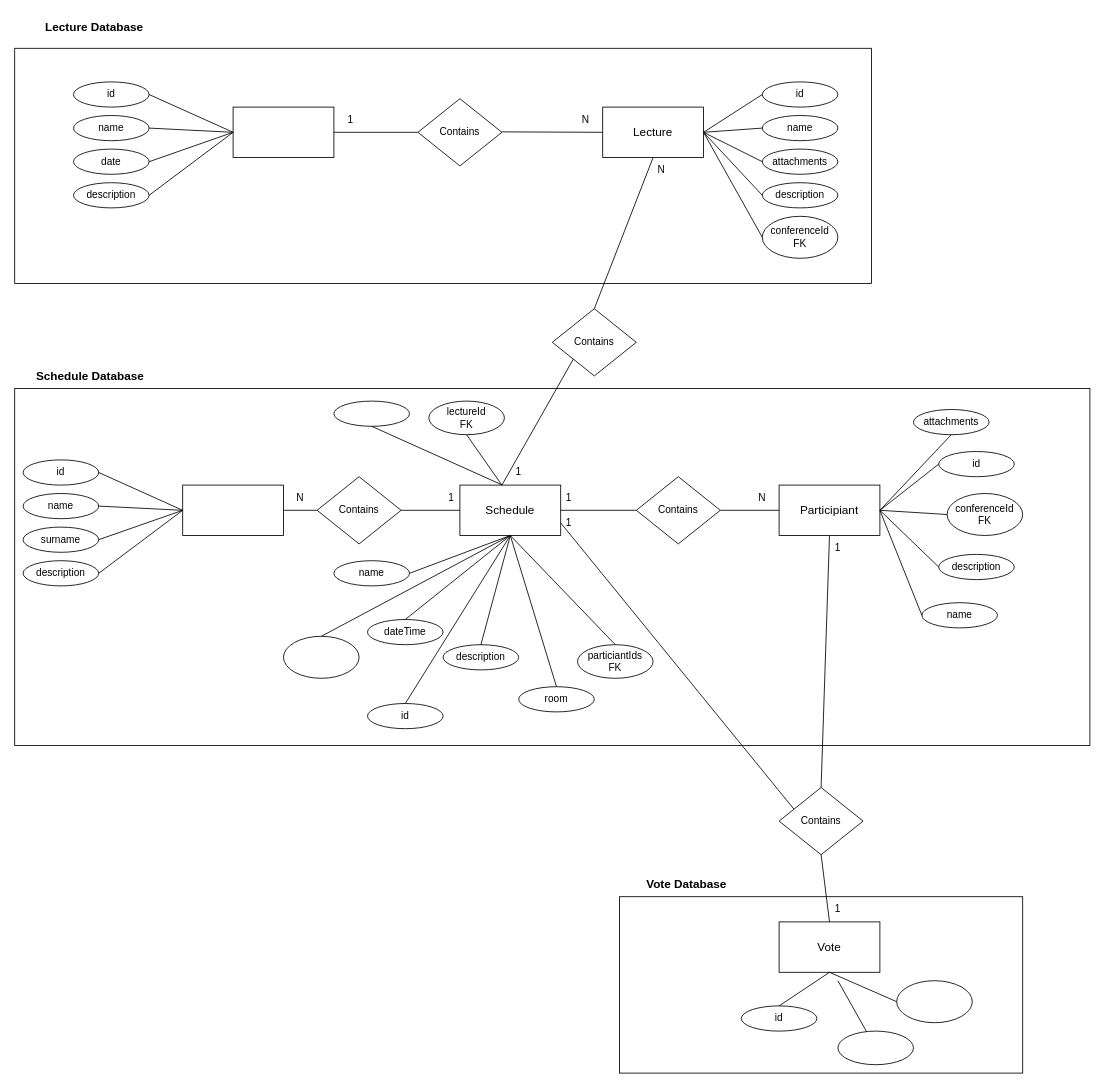
This 1105x1088 diagram has some shape labels left out. Each missing label, with the box of its shape:
Conference: (232, 106, 334, 158)
lectureName: (333, 400, 410, 426)
particiantId FK: (896, 980, 972, 1023)
scheduleId FK: (837, 1030, 914, 1065)
Speaker: (182, 484, 284, 536)
speakerIds FK: (283, 635, 359, 678)
